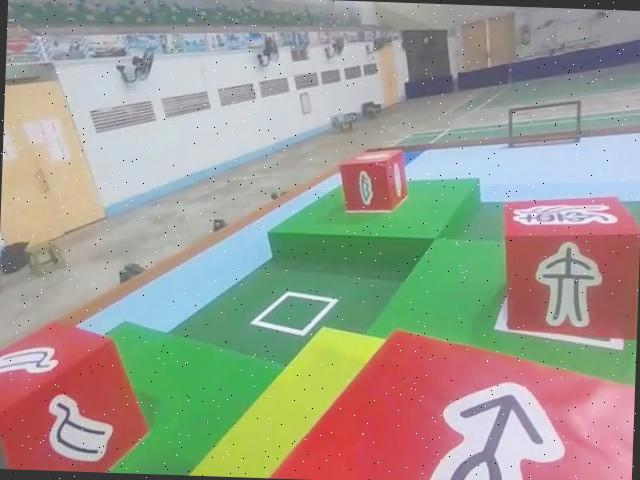R2 Fake: (496, 188, 640, 342)
R2 Real: (259, 322, 637, 480), (0, 317, 156, 474), (337, 147, 412, 219)
